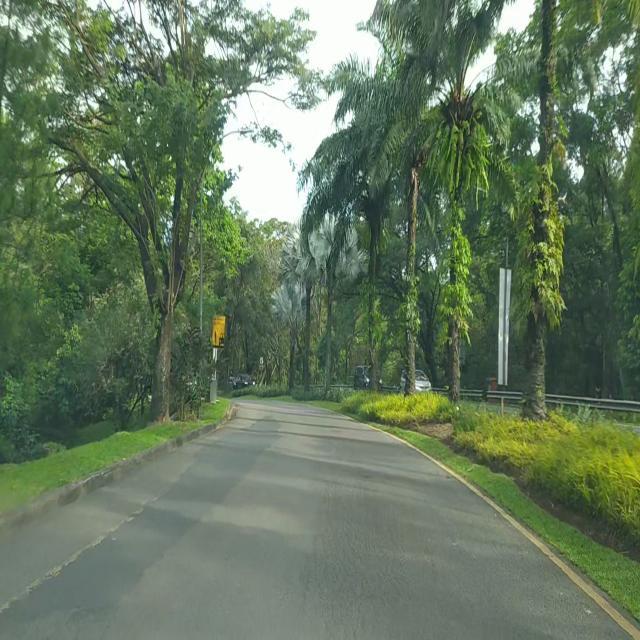Drain Hole: (317, 463, 405, 640)
